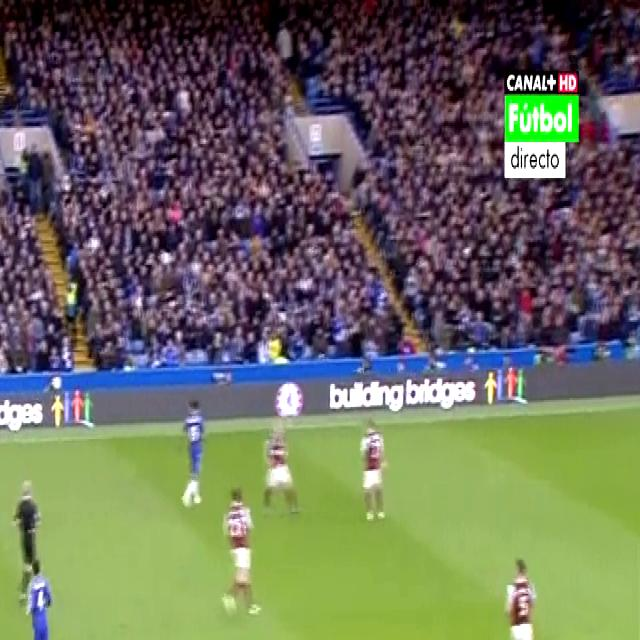referee: (11, 468, 50, 599)
soccer-player: (216, 483, 262, 630), (255, 409, 302, 522), (353, 408, 393, 532), (499, 542, 547, 640), (177, 391, 210, 518), (19, 556, 58, 640)
